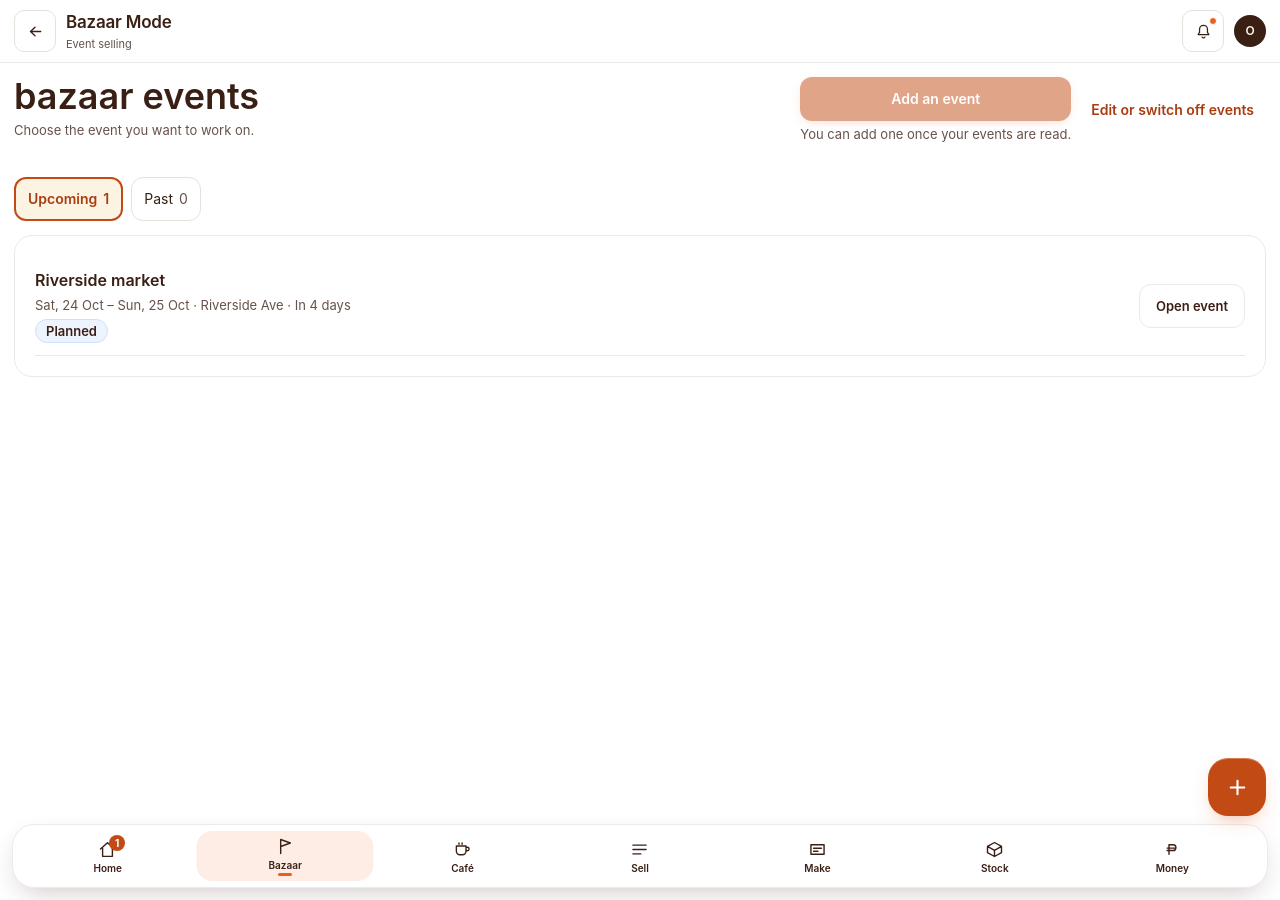
Test: HCB-004 a: the Bazaar plan and a failed or unread catalogue read › B3. before the first read has answered, trying to plan a day offers no built-in product either
Click the button "Riverside market". click: coordinates (100, 280)
box: x1=35 y1=256 x2=1245 y2=356
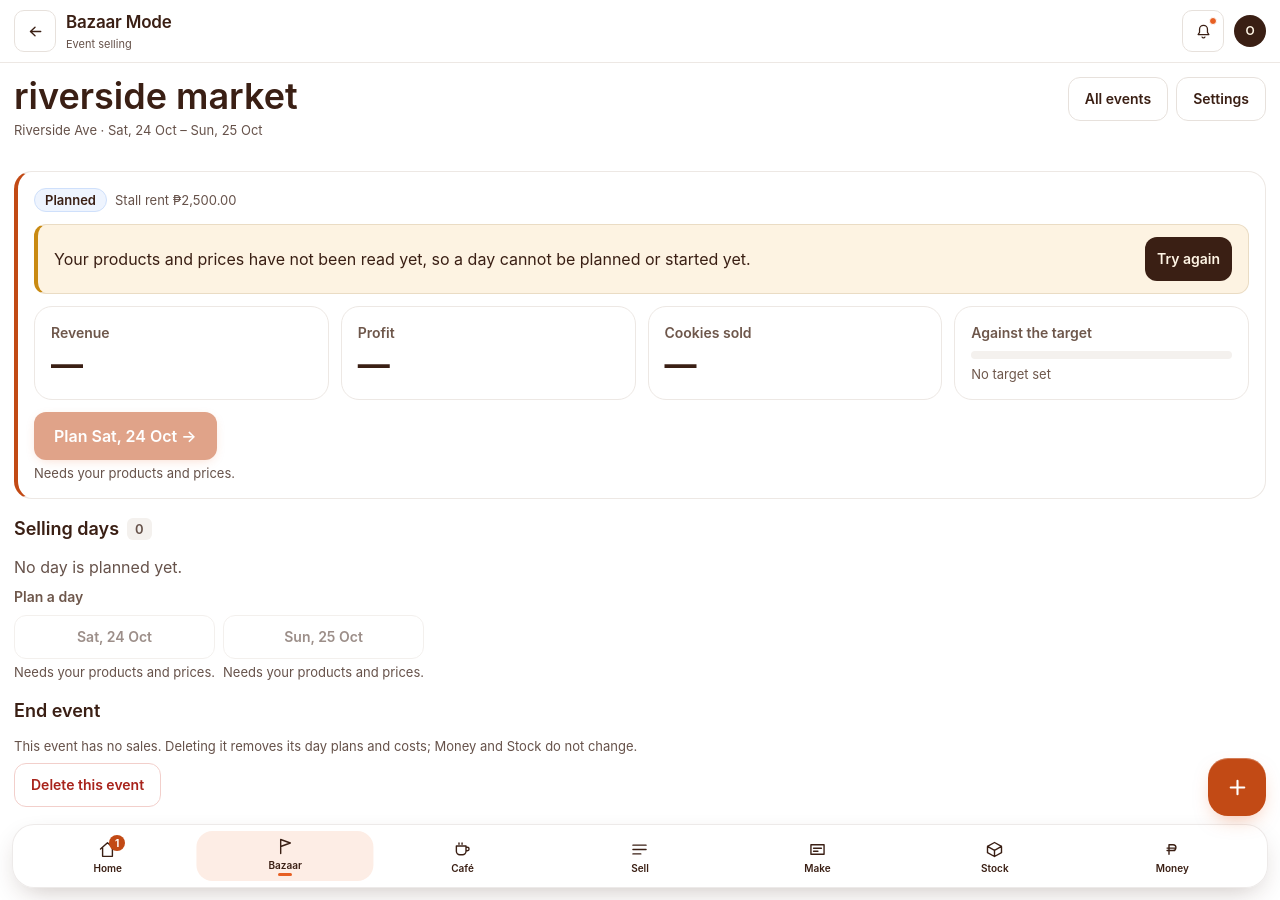
Result: the text "have not been read yet" is shown at x1=54 y1=249 x2=751 y2=269
